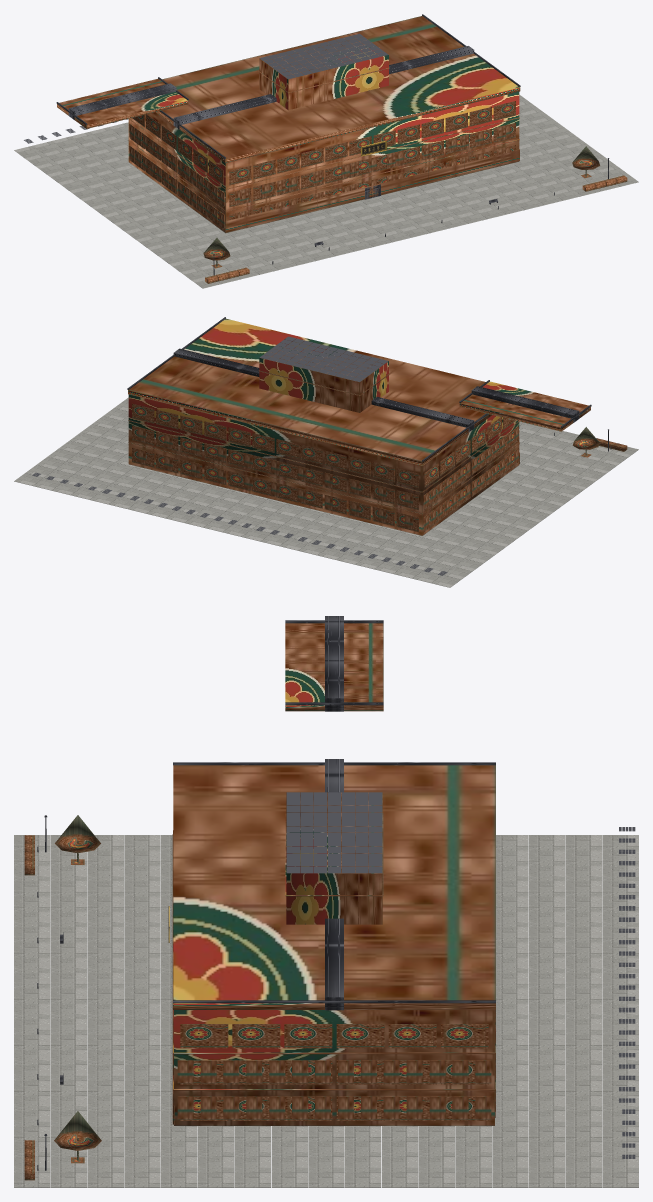
3 views of the same model, one above another, from view 1: azimuth 30°, elevation 25°; view 2: azimuth 150°, elevation 25°; view 3: azimuth 270°, elevation 25° (orthographic). The views are drawn at different scales.
Parts seen in each view (by area): view 1: 11680_01_06313_018_02__mass_body_facade, 11680_01_06313_018_01__plinth_ground_base, 11680_01_06313_018_03__roof_metal_ornament, 11680_01_06313_018_03__roof_deck_structure, 11680_01_06313_018_05__window_sash_glass, 11680_01_06313_018_06__landscape_greenery; view 2: 11680_01_06313_018_02__mass_body_facade, 11680_01_06313_018_01__plinth_ground_base, 11680_01_06313_018_03__roof_deck_structure, 11680_01_06313_018_03__roof_metal_ornament, 11680_01_06313_018_06__landscape_greenery; view 3: 11680_01_06313_018_01__plinth_ground_base, 11680_01_06313_018_02__mass_body_facade, 11680_01_06313_018_03__roof_deck_structure, 11680_01_06313_018_03__roof_metal_ornament, 11680_01_06313_018_06__landscape_greenery.
Boxes of the visible parts, x1,y1,x2,y2 form: 11680_01_06313_018_02__mass_body_facade: (57, 16, 520, 233); 11680_01_06313_018_01__plinth_ground_base: (14, 94, 638, 288); 11680_01_06313_018_03__roof_metal_ornament: (56, 14, 520, 158); 11680_01_06313_018_03__roof_deck_structure: (24, 33, 388, 143); 11680_01_06313_018_05__window_sash_glass: (240, 125, 505, 217); 11680_01_06313_018_06__landscape_greenery: (203, 146, 627, 283); 11680_01_06313_018_02__mass_body_facade: (128, 318, 590, 535); 11680_01_06313_018_01__plinth_ground_base: (14, 397, 638, 587); 11680_01_06313_018_03__roof_deck_structure: (32, 336, 447, 575); 11680_01_06313_018_03__roof_metal_ornament: (127, 317, 591, 461); 11680_01_06313_018_06__landscape_greenery: (572, 427, 627, 457); 11680_01_06313_018_01__plinth_ground_base: (14, 835, 638, 1187); 11680_01_06313_018_02__mass_body_facade: (172, 623, 495, 1125); 11680_01_06313_018_03__roof_deck_structure: (286, 792, 635, 1158); 11680_01_06313_018_03__roof_metal_ornament: (173, 616, 495, 1010); 11680_01_06313_018_06__landscape_greenery: (24, 815, 101, 1180).
Bounding box in the file's own units: 112 × 26.4 × 77.95.
Materials: 7 (7 with a texture image).
